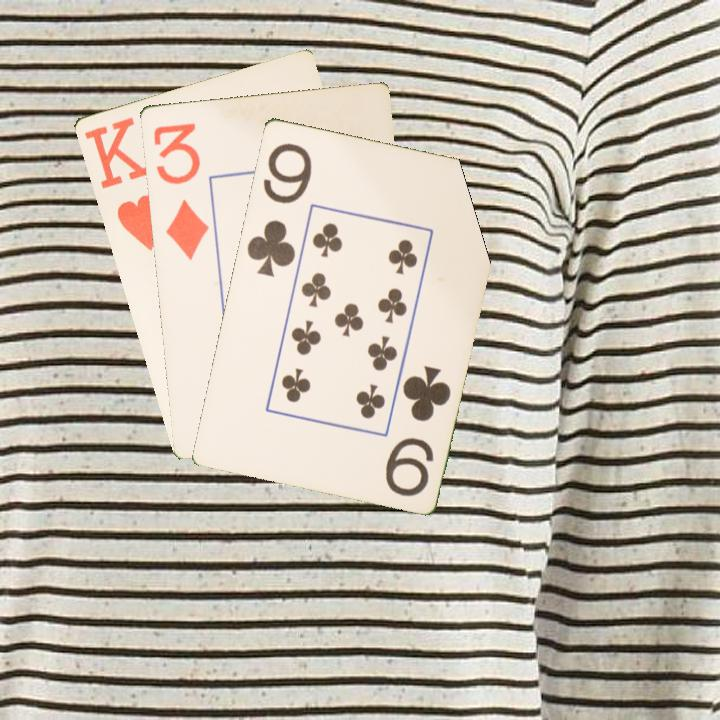3d: (149, 118, 212, 263)
9c: (243, 139, 315, 280), (381, 362, 454, 499)
Kh: (80, 113, 163, 254)
